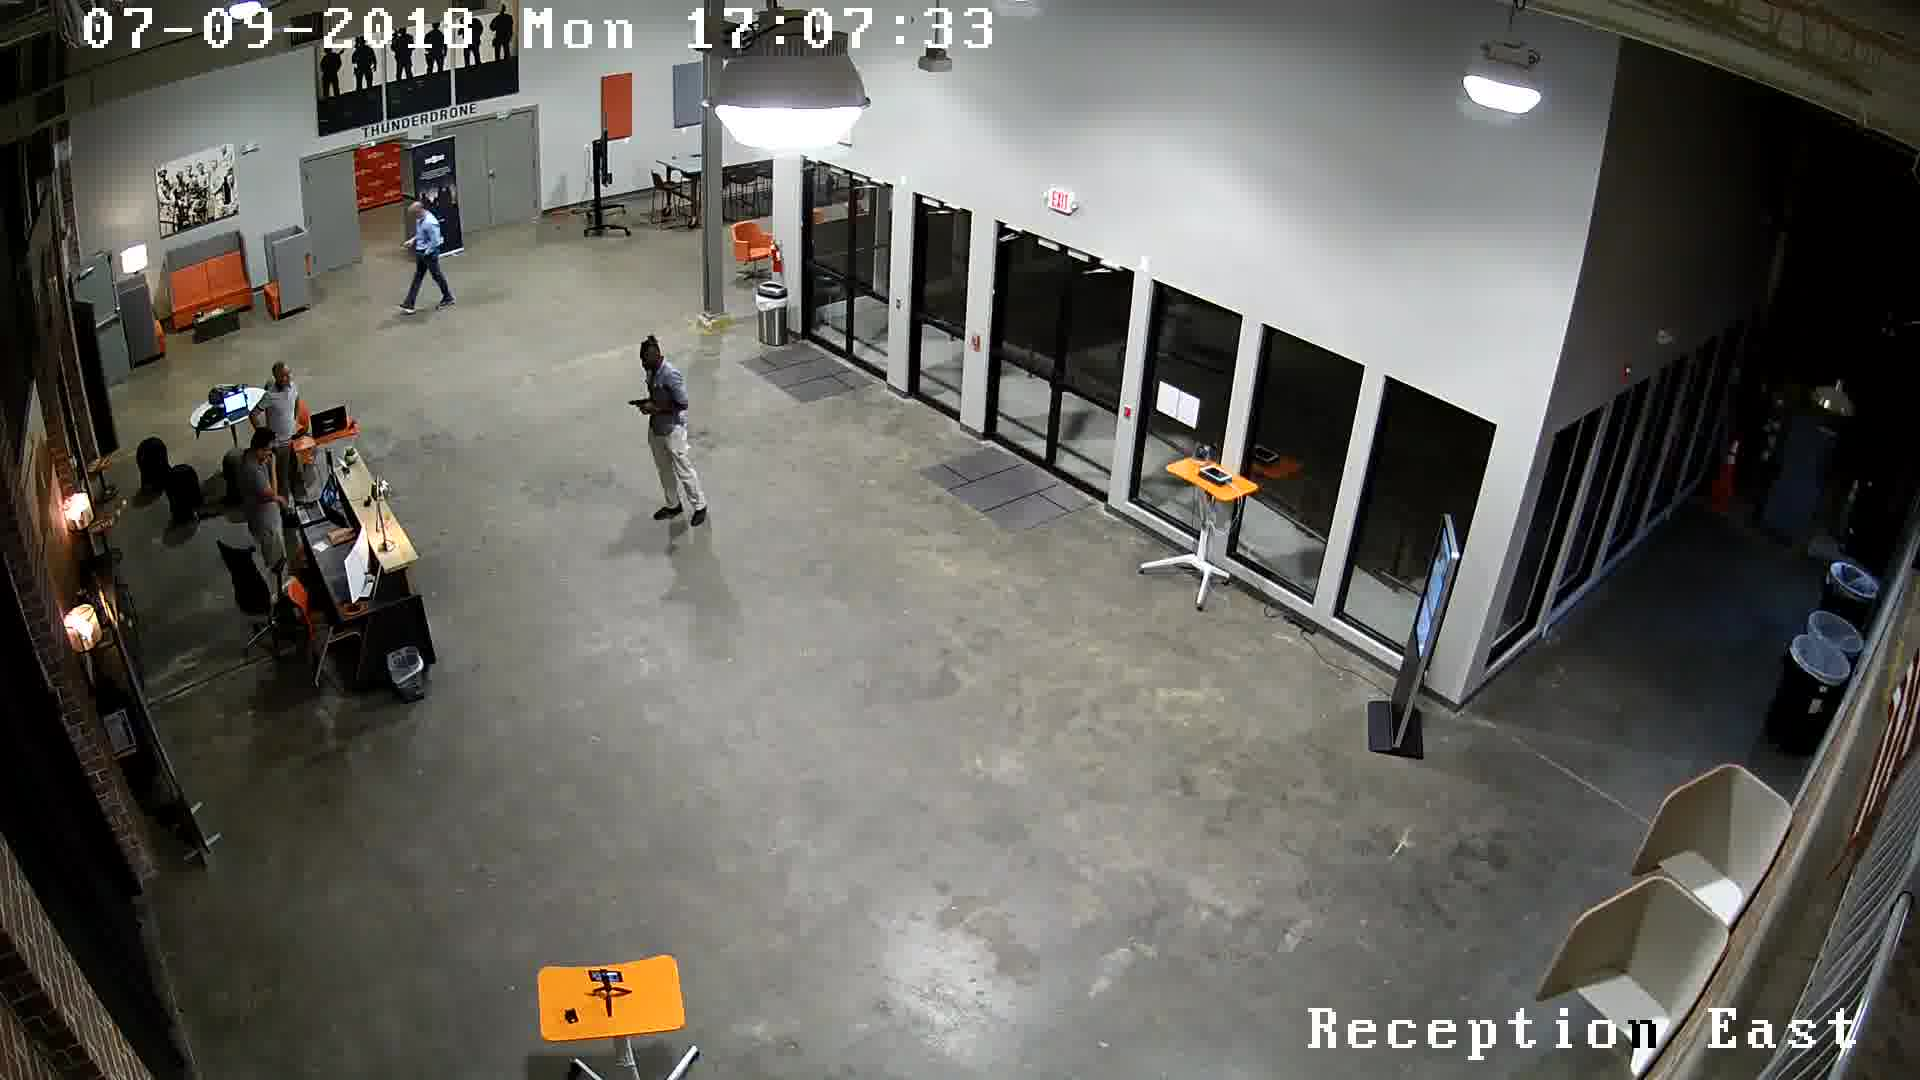pistol: (608, 398, 676, 423)
